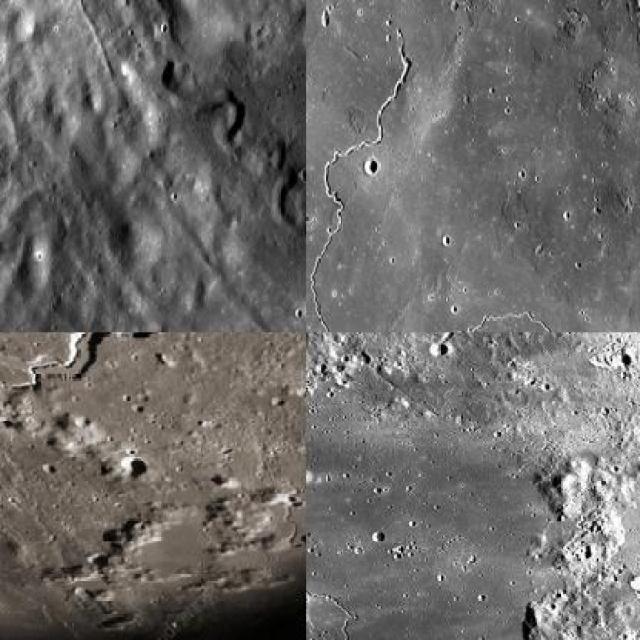rille: (310, 27, 638, 330), (152, 55, 305, 331), (0, 332, 305, 462), (306, 332, 376, 638)
